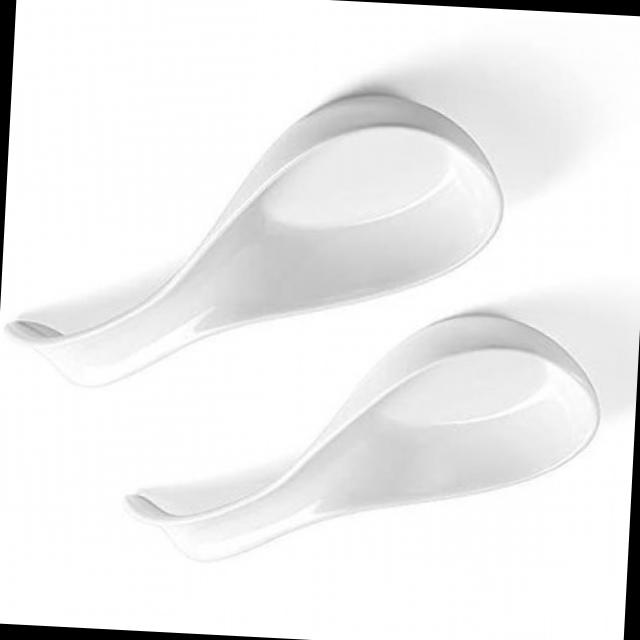spoon: (106, 289, 610, 584)
